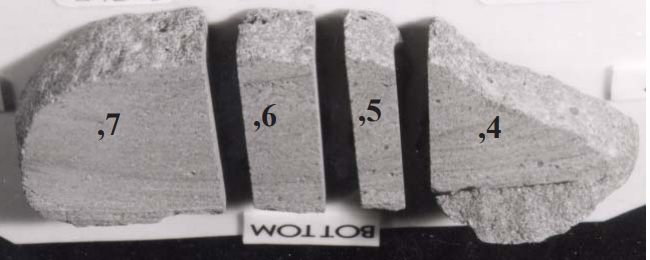Basalt: (389, 20, 620, 243), (42, 25, 225, 212), (253, 5, 323, 208)
